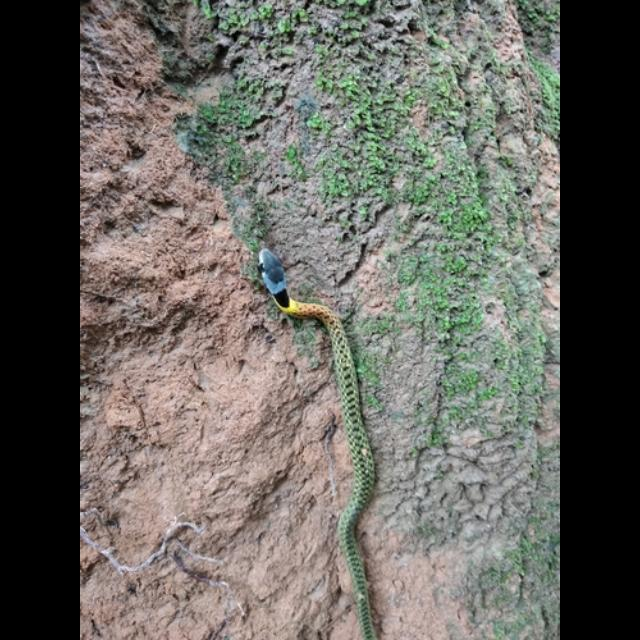snake: (248, 242, 384, 640)
